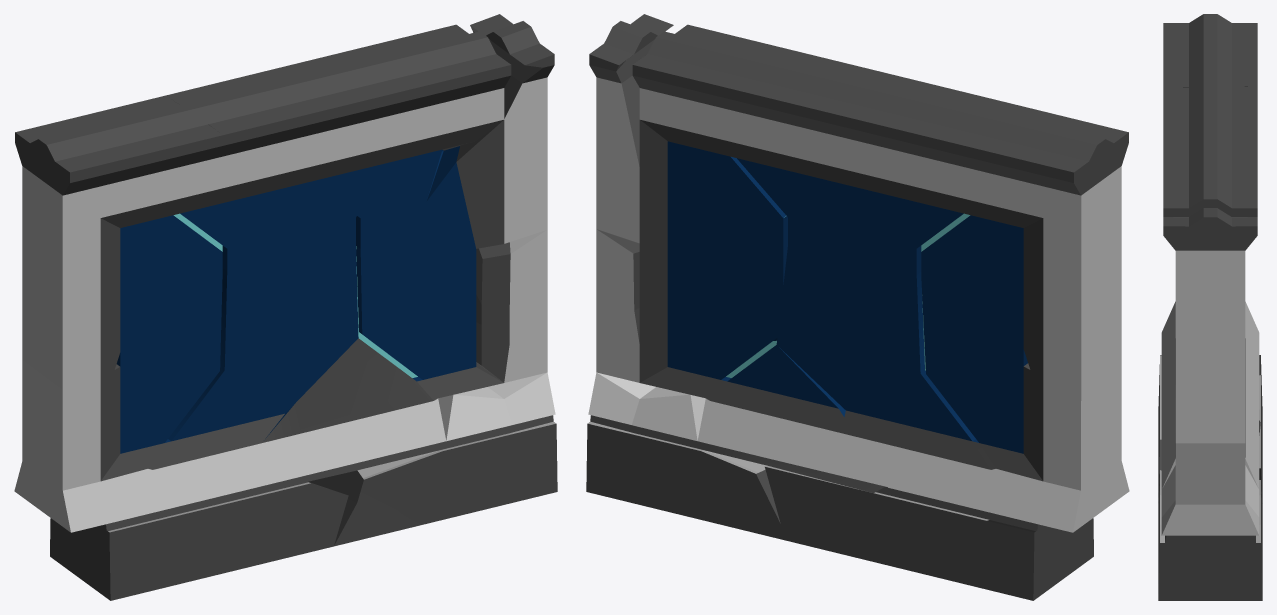
Rendered from Outer_Wall_Broken.fbx.
3 views of the same model, side by side, from view 1: azimuth 30°, elevation 25°; view 2: azimuth 150°, elevation 25°; view 3: azimuth 270°, elevation 25° (orthographic). The views are drawn at different scales.
Parts seen in each view (by area): view 1: Wall_Piece1, Wall_Piece, Wall_Piece3, Wall_Piece6, Wall_Piece8, Wall_Piece2, Wall_Piece5, Wall_Piece4, Wall_Piece7; view 2: Wall_Piece1, Wall_Piece, Wall_Piece3, Wall_Piece8, Wall_Piece6, Wall_Piece2, Wall_Piece5, Wall_Piece4, Wall_Piece7; view 3: Wall_Piece2, Wall_Piece, Wall_Piece5, Wall_Piece7, Wall_Piece1, Wall_Piece6, Wall_Piece8, Wall_Piece4.
Boxes of the visible parts, x1,y1,x2,y2 form: Wall_Piece1: [15, 95, 329, 389]; Wall_Piece: [166, 24, 511, 228]; Wall_Piece3: [116, 229, 411, 439]; Wall_Piece6: [50, 413, 348, 600]; Wall_Piece8: [220, 249, 503, 481]; Wall_Piece2: [330, 14, 554, 282]; Wall_Piece5: [308, 372, 557, 546]; Wall_Piece4: [14, 360, 120, 532]; Wall_Piece7: [476, 229, 547, 382]; Wall_Piece1: [810, 95, 1128, 389]; Wall_Piece: [632, 24, 974, 231]; Wall_Piece3: [723, 232, 1027, 445]; Wall_Piece8: [639, 243, 888, 523]; Wall_Piece6: [781, 410, 1093, 600]; Wall_Piece2: [589, 14, 808, 289]; Wall_Piece5: [586, 372, 784, 540]; Wall_Piece4: [1023, 361, 1129, 532]; Wall_Piece7: [596, 229, 639, 382]; Wall_Piece2: [1163, 208, 1257, 381]; Wall_Piece: [1163, 80, 1257, 216]; Wall_Piece5: [1158, 465, 1262, 600]; Wall_Piece7: [1175, 381, 1245, 504]; Wall_Piece1: [1163, 14, 1257, 87]; Wall_Piece6: [1158, 317, 1262, 511]; Wall_Piece8: [1161, 368, 1262, 503]; Wall_Piece4: [1161, 301, 1259, 347].
Bounding box in the file's own units: 5.83 × 1.26 × 5.12.
